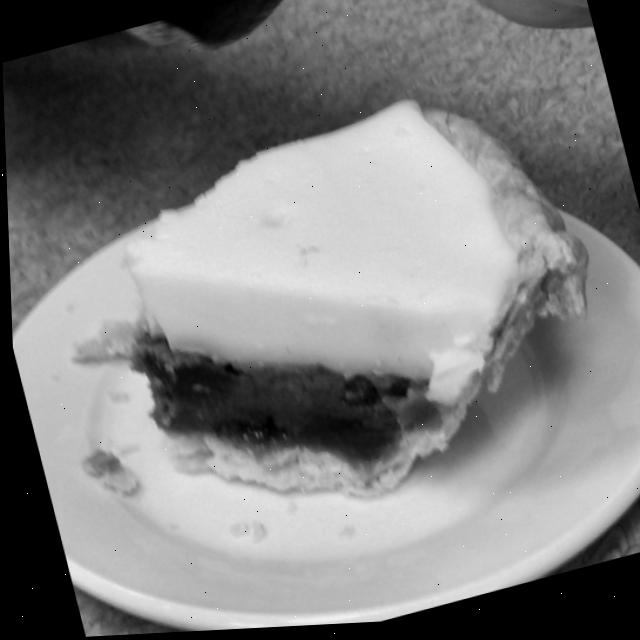蛋糕甜品: (1, 5, 640, 640)
